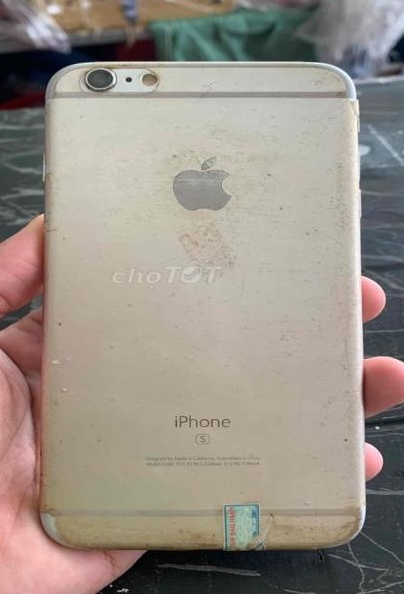scratch: (32, 481, 376, 560), (144, 108, 291, 290), (261, 292, 381, 446), (300, 62, 382, 261), (32, 313, 104, 438), (65, 59, 171, 107)
